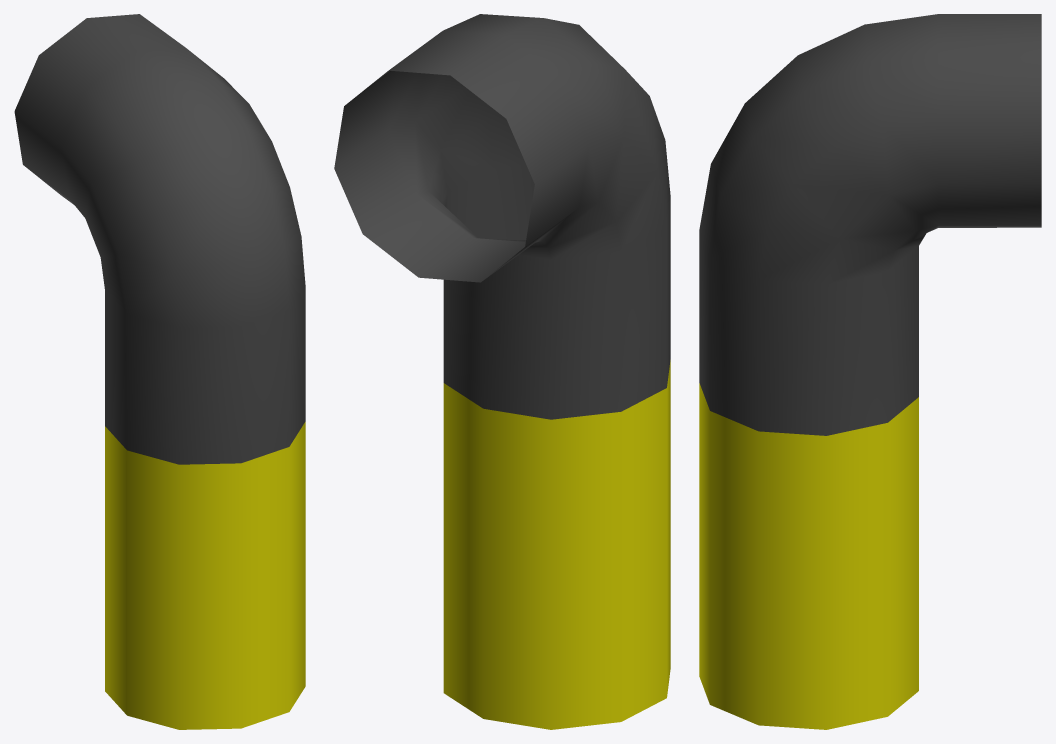
File: env_building_supportleg_lod2.fbx
3 views of the same model, side by side, from view 1: azimuth 30°, elevation 25°; view 2: azimuth 150°, elevation 25°; view 3: azimuth 270°, elevation 25° (orthographic). The views are drawn at different scales.
Parts seen in each view (by area): view 1: polySurface1522; view 2: polySurface1522; view 3: polySurface1522.
Boxes of the visible parts, x1,y1,x2,y2 form: polySurface1522: (14, 14, 305, 729); polySurface1522: (334, 14, 670, 729); polySurface1522: (699, 14, 1041, 729).
Size of the model in its own units: 0.5247 by 1.74 by 0.8172.
